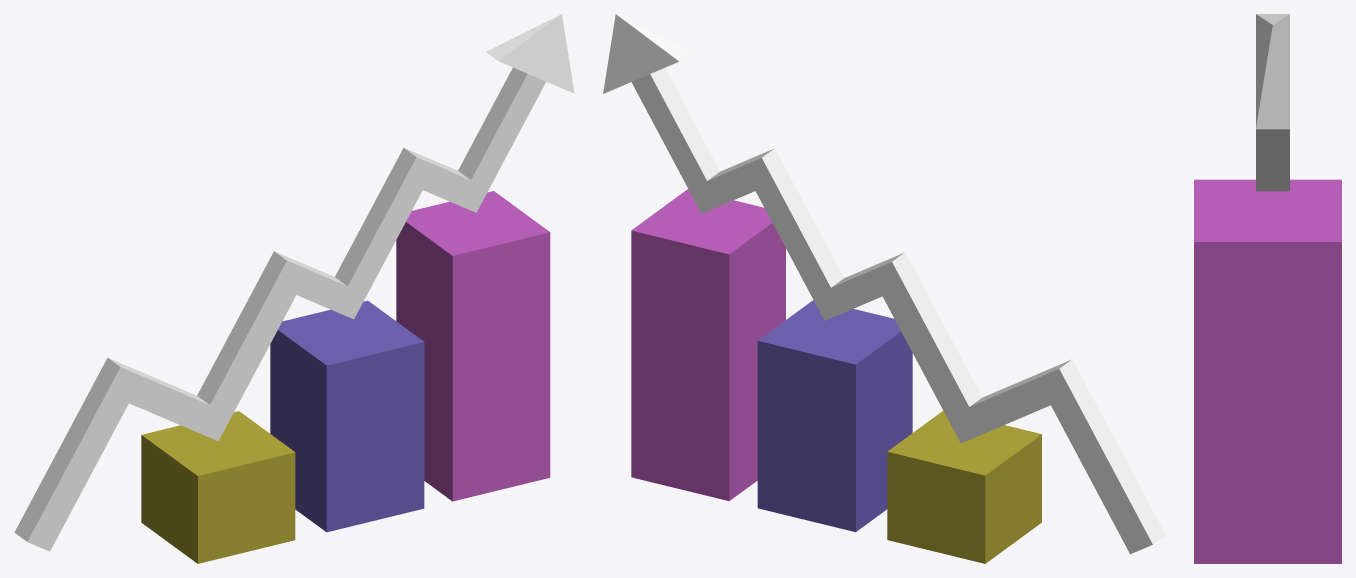
The model's file is stats-transformed.glb.
3 views of the same model, side by side, from view 1: azimuth 30°, elevation 25°; view 2: azimuth 150°, elevation 25°; view 3: azimuth 270°, elevation 25° (orthographic). The views are drawn at different scales.
Visible parts, largest first — view 1: Cube.002_0, Cube.003_0, Cube.001_0, Cube_0; view 2: Cube.002_0, Cube.003_0, Cube.001_0, Cube_0; view 3: Cube.002_0, Cube.003_0.
Part boxes in pixels (x1,y1,x2,y2): Cube.002_0: (396, 191, 550, 501); Cube.003_0: (14, 14, 574, 551); Cube.001_0: (270, 300, 424, 532); Cube_0: (141, 411, 295, 563); Cube.002_0: (631, 189, 785, 500); Cube.003_0: (603, 14, 1165, 554); Cube.001_0: (757, 300, 912, 532); Cube_0: (887, 411, 1041, 563); Cube.002_0: (1194, 179, 1341, 563); Cube.003_0: (1256, 14, 1289, 191).
Bounding box in the file's own units: 3.63 × 2.74 × 0.648.
